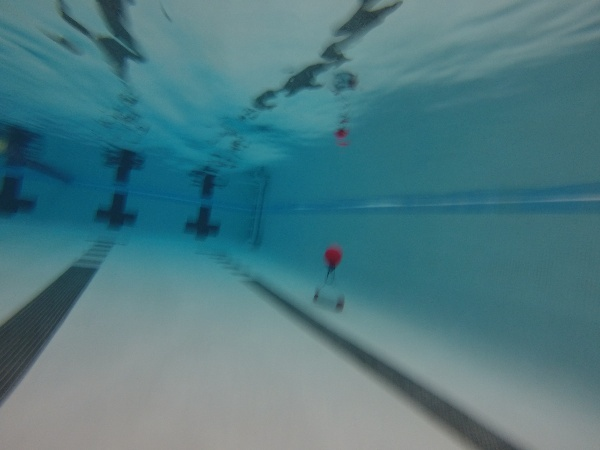buoy_red: (324, 247, 342, 272)
